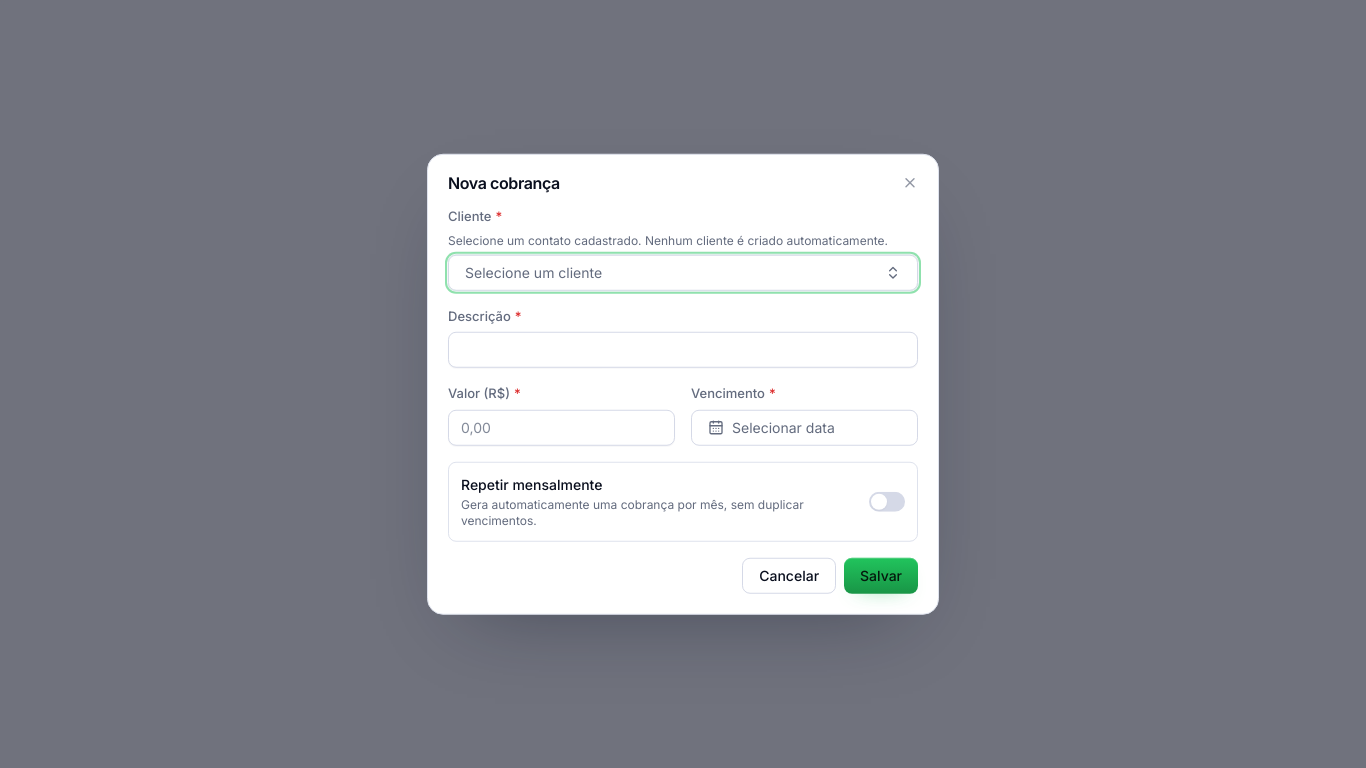
Test: ChargeForm clients › lists available clients from the contacts endpoint
Click the dropdown: (534, 272) x1=448 y1=254 x2=918 y2=290
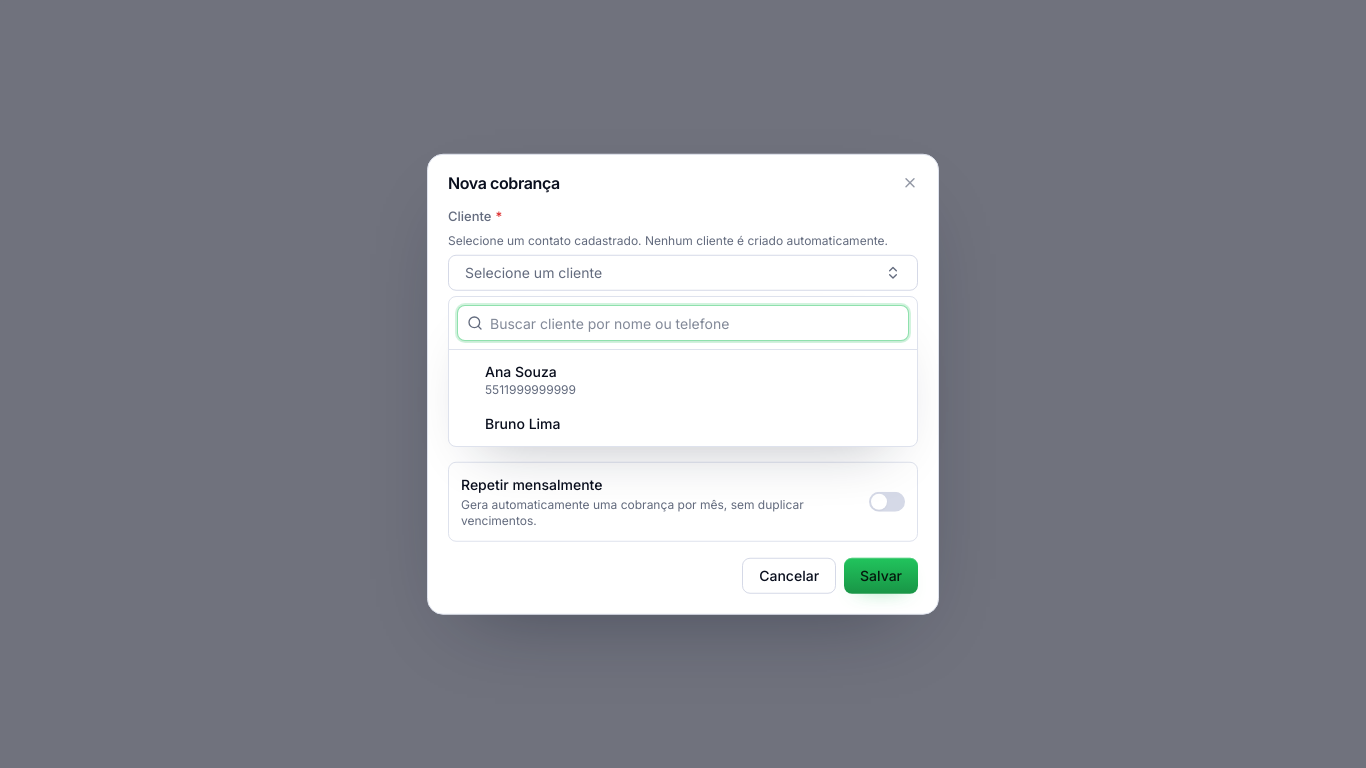
Expected: the text "Ana Souza" is shown, x1=485 y1=363 x2=557 y2=380
Expected: the text "5511999999999" is shown, x1=485 y1=382 x2=576 y2=397
Expected: the text "Bruno Lima" is shown, x1=485 y1=415 x2=560 y2=432
